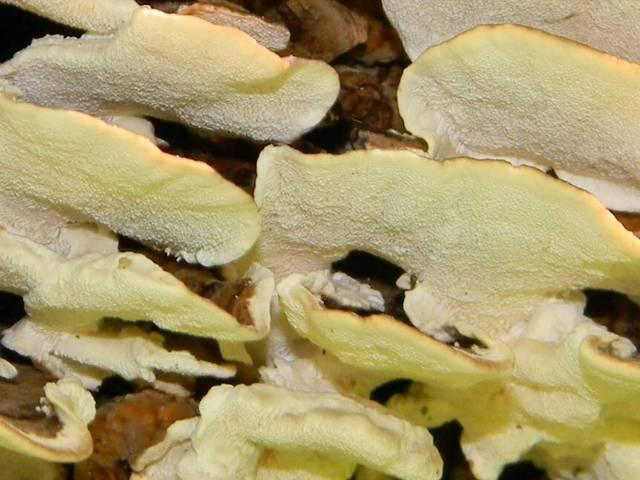Non-edible Mushroom: (0, 0, 639, 479), (0, 1, 341, 145), (394, 21, 639, 213)
